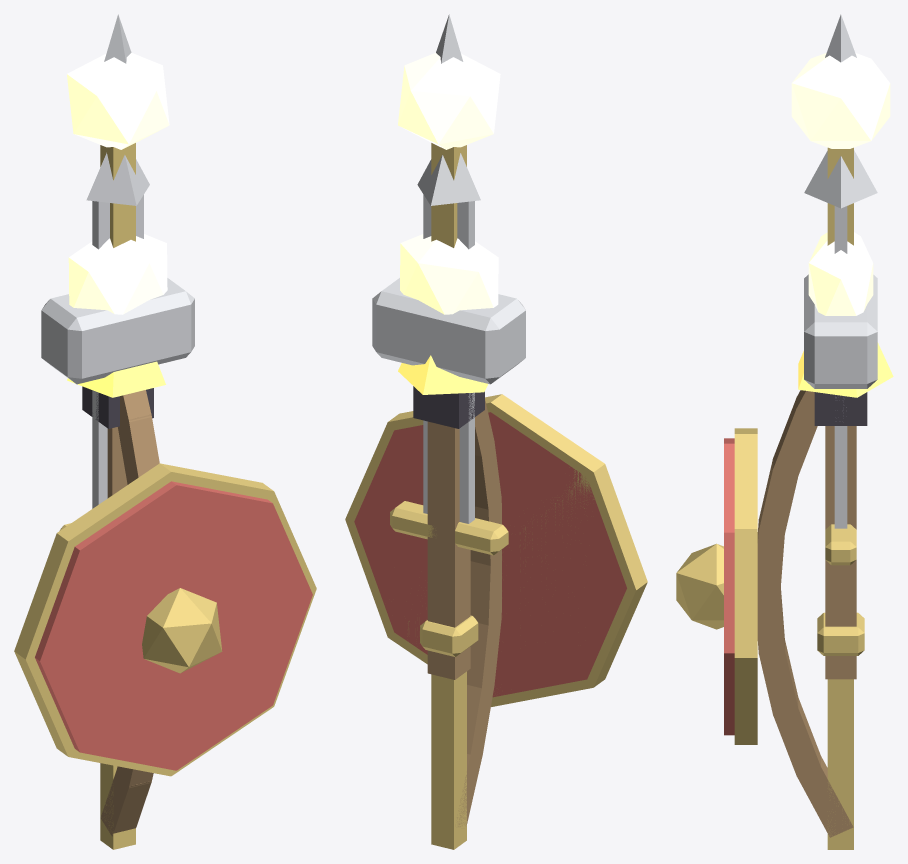
File: warga_weapons.glb
3 renders of one model, left to right at view 1: azimuth 30°, elevation 25°; view 2: azimuth 150°, elevation 25°; view 3: azimuth 270°, elevation 25°, orthographic.
Visible parts, largest first — view 1: disc, rim, head, orb, star, boss, shaft.001, blade, tip, seg6, seg0, flame (+4 smaller); view 2: disc, rim, head, shaft.001, orb, star, handle.001, handle, blade, guard, wrap, tip (+11 smaller); view 3: orb, rim, head, shaft.001, handle, star, boss, disc, tip, blade, seg1, seg6 (+10 smaller).
Part boxes in pixels (bbox=[...]): disc: bbox=[35, 481, 312, 770]; rim: bbox=[14, 463, 316, 776]; head: bbox=[41, 278, 194, 384]; orb: bbox=[67, 52, 169, 149]; star: bbox=[68, 234, 167, 314]; boss: bbox=[142, 588, 222, 673]; shaft.001: bbox=[100, 143, 135, 849]; blade: bbox=[92, 195, 143, 508]; tip: bbox=[86, 152, 149, 205]; seg6: bbox=[118, 414, 159, 484]; seg0: bbox=[100, 768, 151, 836]; flame: bbox=[67, 361, 165, 397]; disc: bbox=[354, 412, 626, 697]; rim: bbox=[345, 394, 647, 706]; head: bbox=[372, 278, 525, 384]; shaft.001: bbox=[431, 143, 466, 849]; orb: bbox=[398, 53, 500, 149]; star: bbox=[400, 234, 498, 314]; handle.001: bbox=[427, 424, 470, 660]; handle: bbox=[427, 421, 470, 679]; blade: bbox=[423, 194, 474, 523]; guard: bbox=[390, 501, 508, 555]; wrap: bbox=[413, 386, 484, 428]; tip: bbox=[417, 153, 480, 205]; orb: bbox=[791, 53, 890, 148]; rim: bbox=[734, 428, 757, 744]; head: bbox=[804, 274, 877, 388]; shaft.001: bbox=[827, 147, 853, 849]; handle: bbox=[825, 426, 856, 679]; star: bbox=[808, 232, 873, 315]; boss: bbox=[676, 543, 723, 629]; disc: bbox=[724, 438, 734, 735]; tip: bbox=[804, 150, 877, 208]; blade: bbox=[834, 206, 847, 528]; seg1: bbox=[773, 698, 821, 776]; seg6: bbox=[772, 397, 817, 478].
Bounding box in the file's own units: 0.32 × 0.87 × 0.2063.
